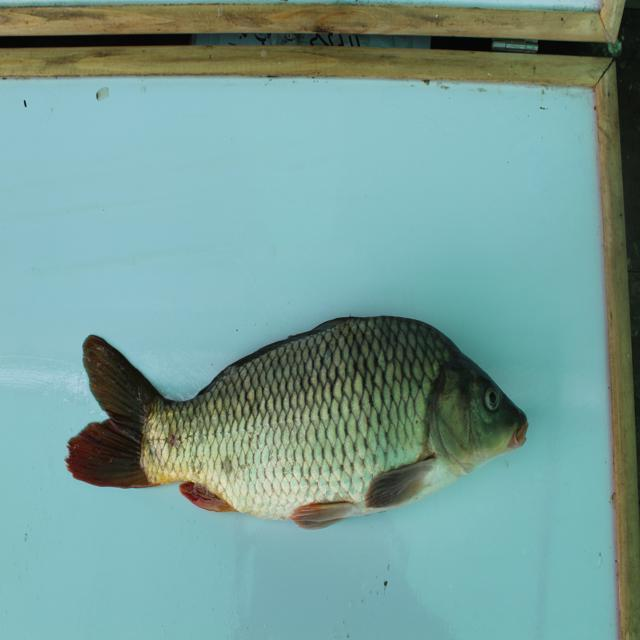CommonCarp: (58, 299, 548, 534)
